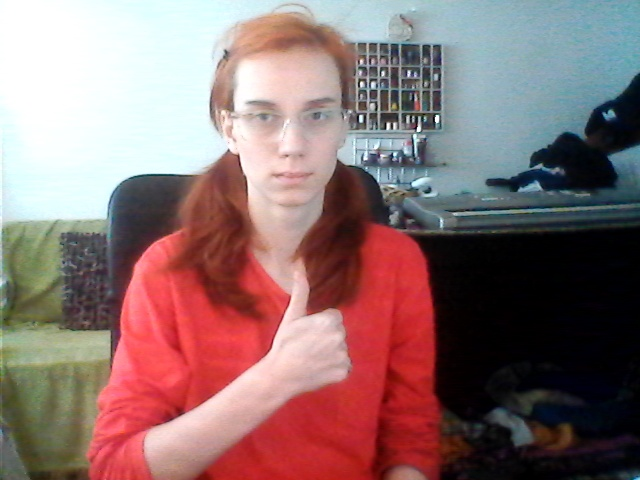jeden: (271, 271, 359, 400)
